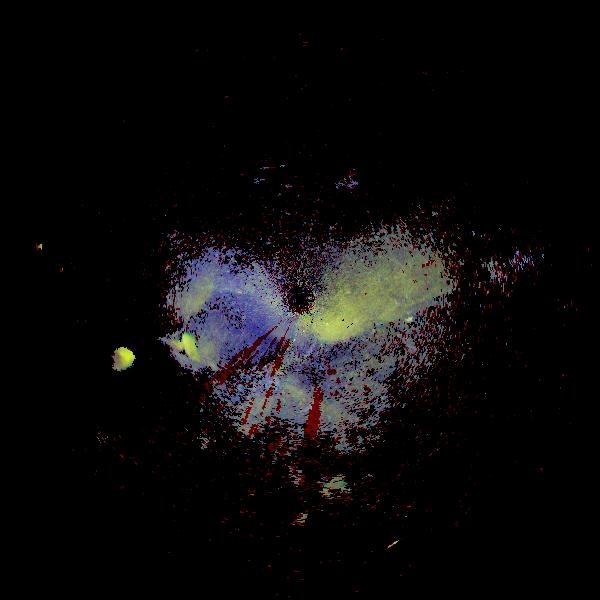roost: (125, 318, 212, 405), (73, 334, 151, 412), (0, 230, 57, 287)
